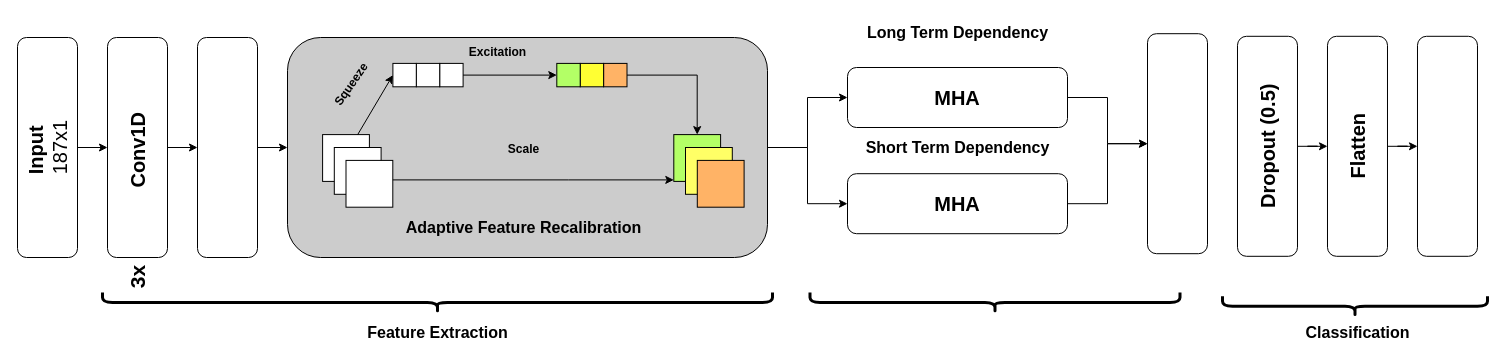
Some shapes in this 1506 by 364 pixel diagram are drawn without their labels. Here are the shapes that lost their labels. From the top down, the centre of each, then its label:
(227,147): Max-pooling
(1177,143): Concatenation
(1447,145): Dense (5 class)
(994,302): Temporal Dependancy
